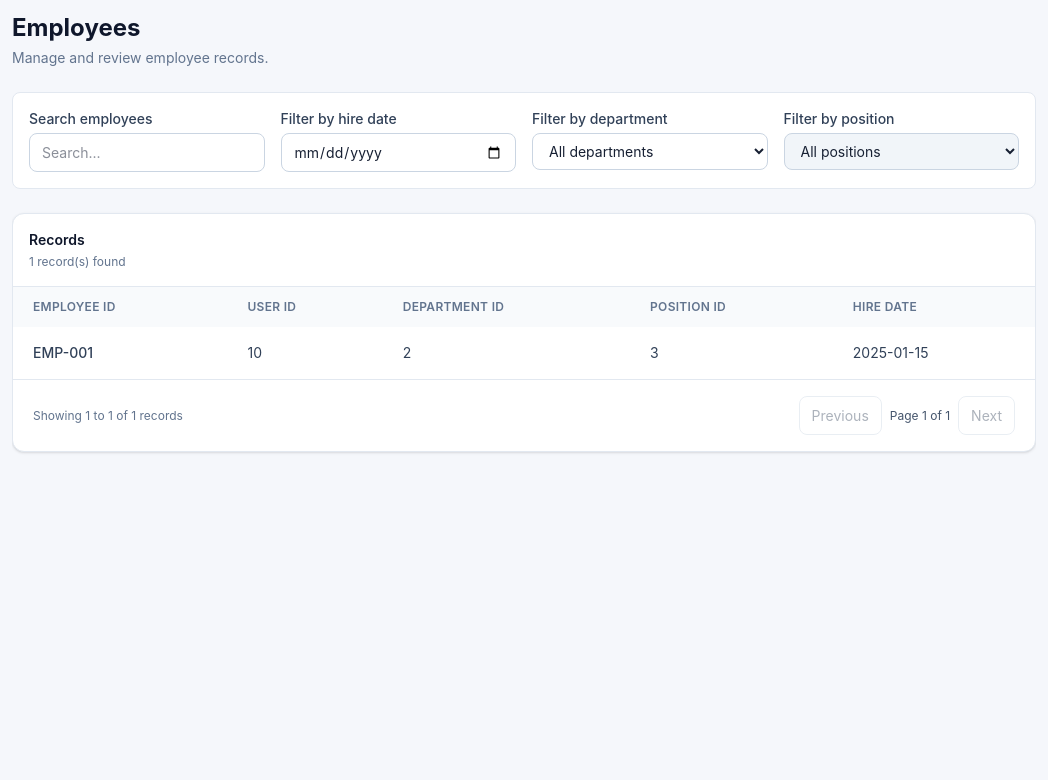
Test: EmployeesPage › displays a safe error and retry option when positions fail to load
The width and height of the screenshot is (1048, 780).
// Sélectionner Engineering.
Select "Engineering" in the dropdown labelled "Filter by department": {"x": 650, "y": 152} [532,133,768,170]
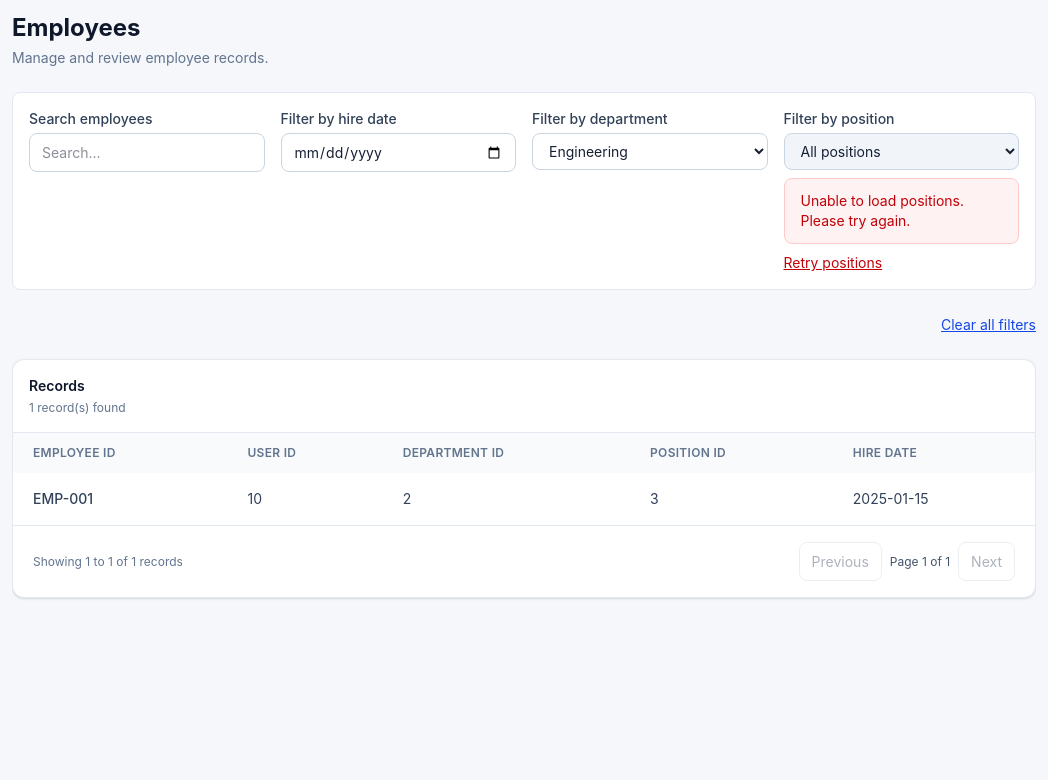
Now the text "Unable to load positions. Please try again." is shown, box [784,178,1019,244]
Now the button "Retry positions" is shown, box [784,252,882,273]
